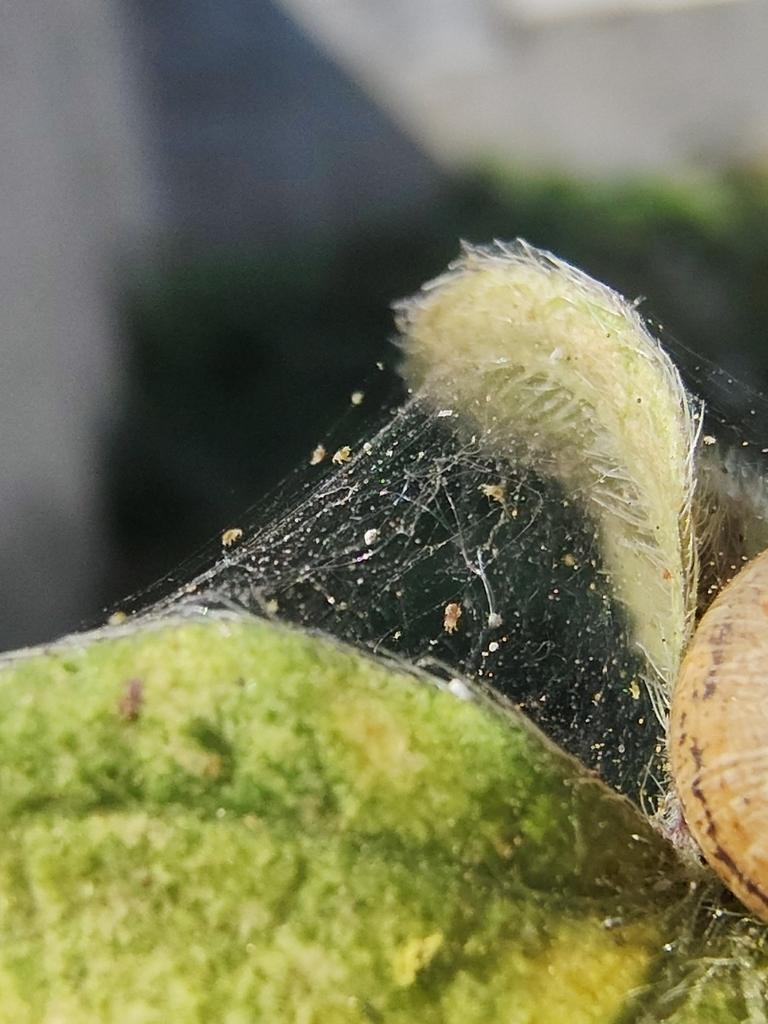tiny_pests: (297, 435, 364, 487), (205, 508, 257, 567), (464, 468, 525, 518), (432, 584, 476, 643)
